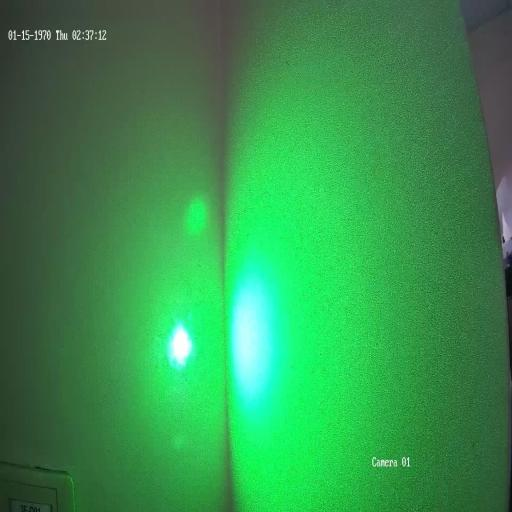laser: (160, 303, 202, 382)
